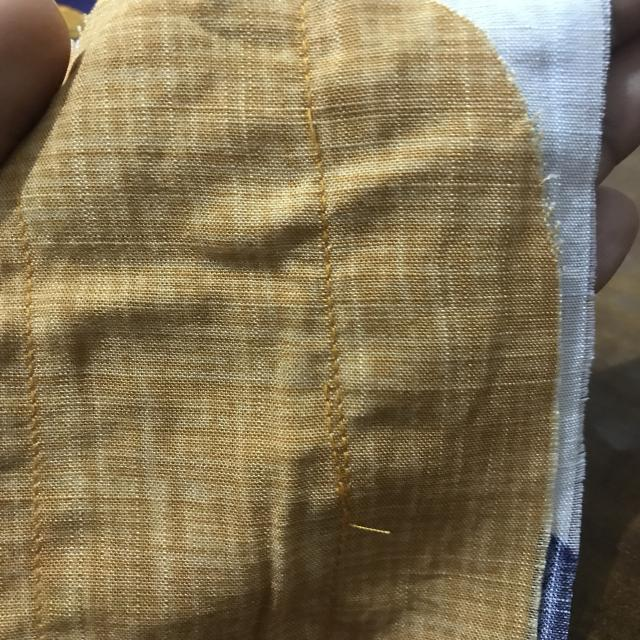good: (307, 200, 347, 294)
skip: (294, 94, 341, 168)
